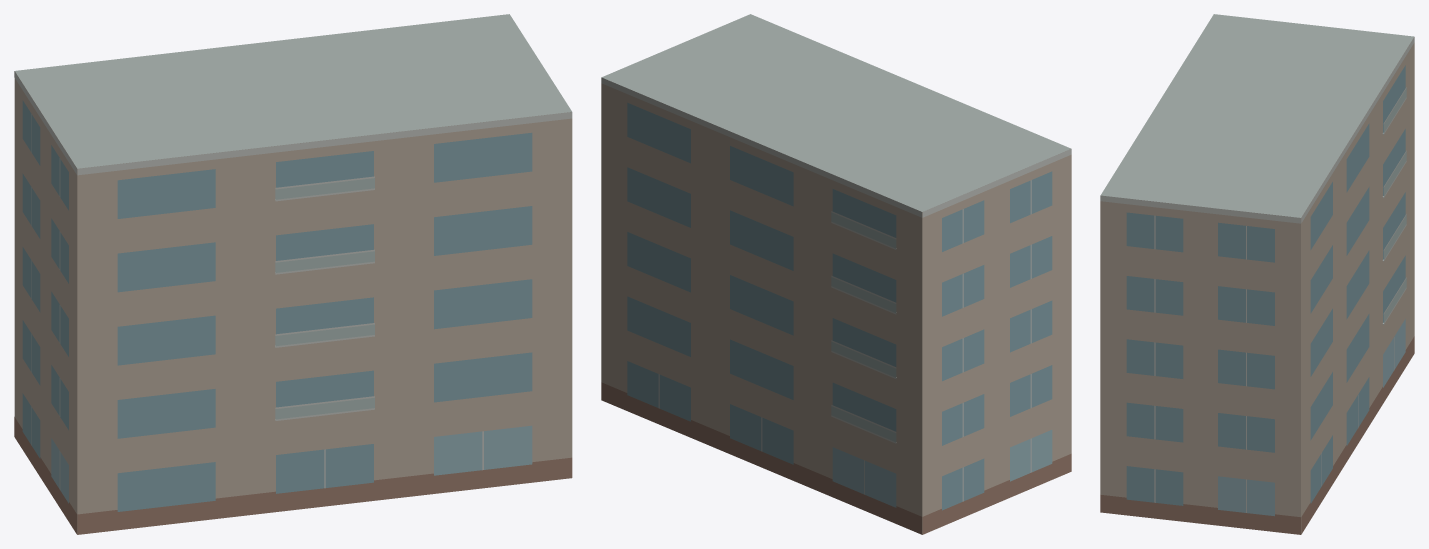
File: survey-upis-32703924.glb
3 renders of one model, left to right at view 1: azimuth 30°, elevation 25°; view 2: azimuth 150°, elevation 25°; view 3: azimuth 270°, elevation 25°, orthographic. The views are drawn at different scales.
Parts seen in each view (by area): view 1: survey-upis-32703924.tmp; view 2: survey-upis-32703924.tmp; view 3: survey-upis-32703924.tmp.
Boxes of the visible parts, <box> form: survey-upis-32703924.tmp: <box>14,14,572,534</box>; survey-upis-32703924.tmp: <box>601,14,1071,534</box>; survey-upis-32703924.tmp: <box>1100,14,1414,534</box>.
Size of the model in its own units: 18.57 by 13.45 by 12.09.
